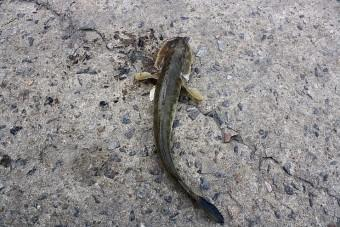fish: (134, 37, 222, 223)
